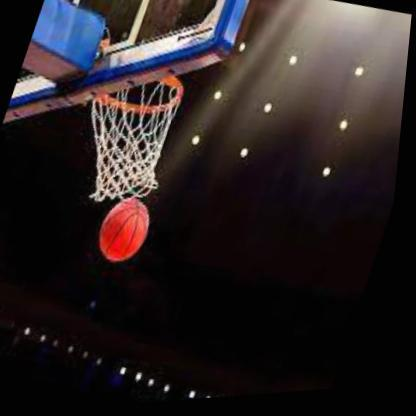basketball: (95, 192, 164, 272)
rim: (86, 58, 196, 129)
